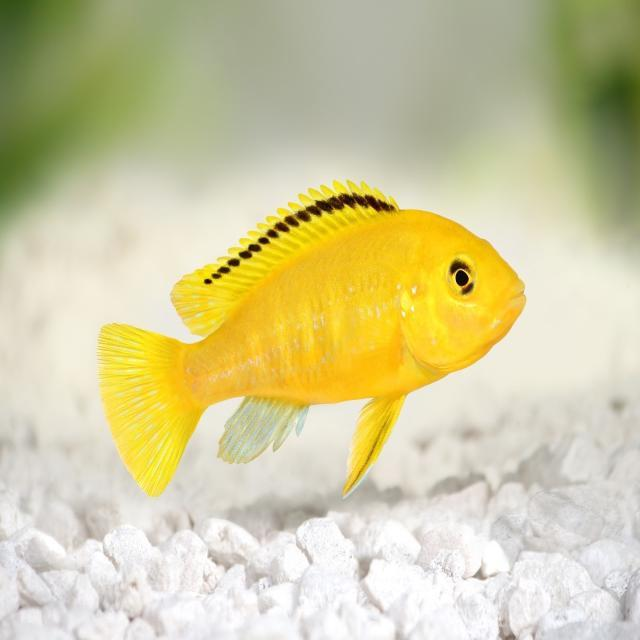YellowCichlid: (84, 168, 550, 502)
